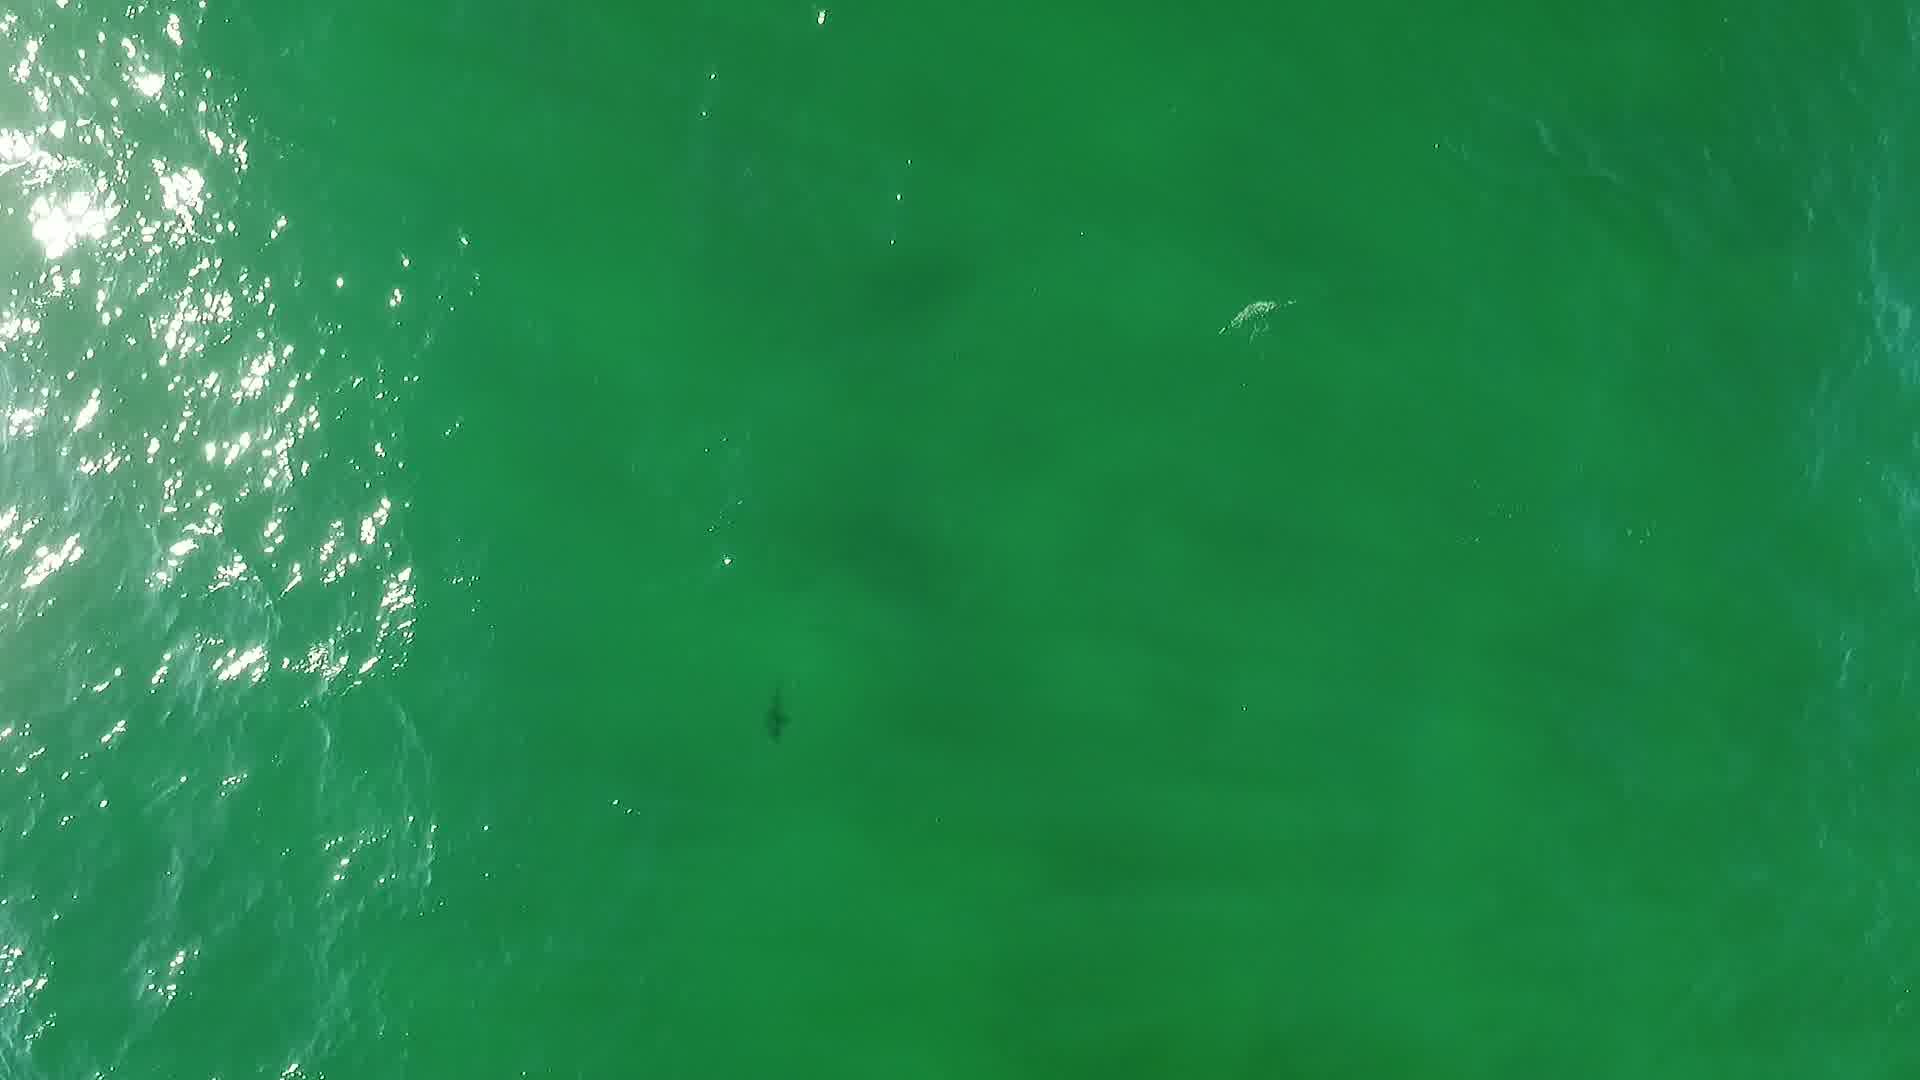shark: (758, 684, 794, 742)
